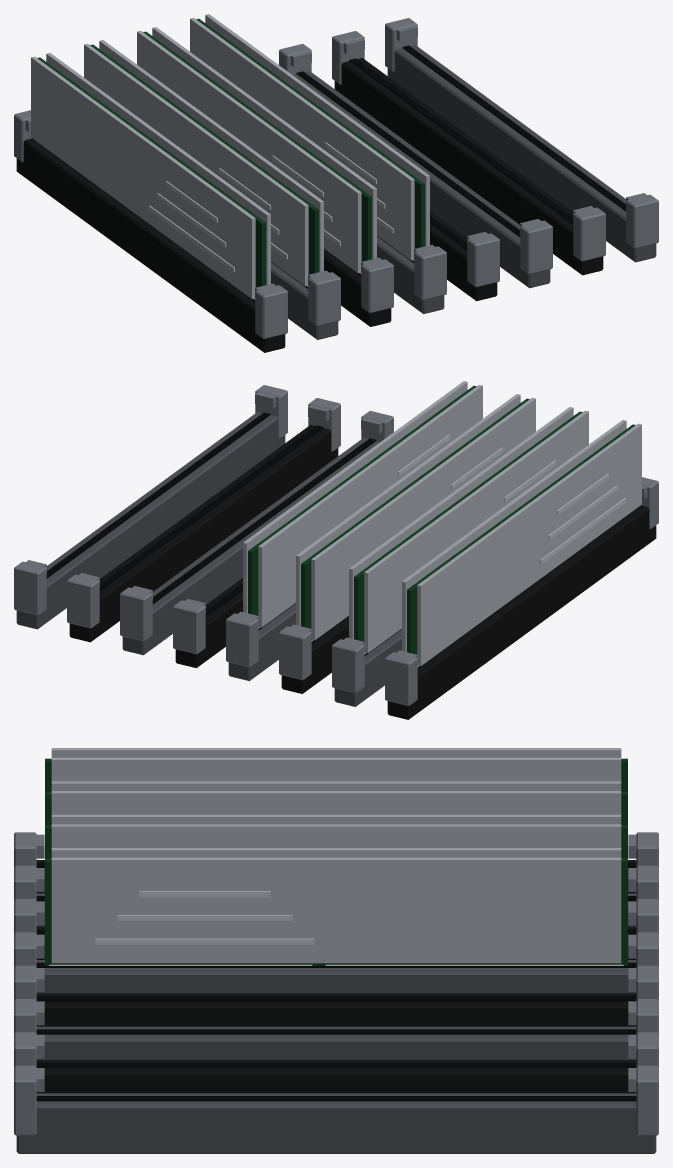
File: hwm_ram_ddr3_32gb.glb
3 renders of one model, top to bottom at view 1: azimuth 30°, elevation 25°; view 2: azimuth 150°, elevation 25°; view 3: azimuth 270°, elevation 25°, orthographic. The views are drawn at different scales.
Visible parts, largest first — view 1: Slots, Stick_0, Stick_2, Stick_1, Stick_3, Latch_5_1, Latch_6_1, Latch_2_1, Latch_3_1, Latch_4_1, Latch_7_1, Latch_1_1 (+5 smaller); view 2: Slots, Stick_0, Stick_2, Stick_1, Stick_3, Latch_5_0, Latch_6_0, Latch_2_0, Latch_3_0, Latch_4_0, Latch_7_0, Latch_1_0 (+5 smaller); view 3: Slots, Stick_3, Stick_1, Stick_0, Stick_2, Latch_7_0, Latch_7_1, Latch_0_0, Latch_0_1, Latch_2_0, Latch_2_1, Latch_3_0 (+9 smaller).
Part boxes in pixels (box(x1,y1,x2,y2)): Slots: box(16, 45, 656, 352); Stick_0: box(31, 53, 270, 299); Stick_2: box(137, 27, 376, 273); Stick_1: box(84, 40, 323, 286); Stick_3: box(190, 14, 429, 261); Latch_5_1: box(520, 219, 552, 274); Latch_6_1: box(573, 206, 605, 261); Latch_2_1: box(361, 257, 393, 313); Latch_3_1: box(414, 244, 446, 300); Latch_4_1: box(467, 232, 499, 287); Latch_7_1: box(626, 193, 658, 248); Latch_1_1: box(308, 270, 340, 325); Slots: box(16, 412, 656, 719); Stick_0: box(402, 420, 641, 666); Stick_2: box(296, 394, 535, 640); Stick_1: box(349, 407, 588, 653); Stick_3: box(243, 381, 482, 628); Latch_5_0: box(120, 586, 152, 641); Latch_6_0: box(67, 573, 99, 628); Latch_2_0: box(279, 624, 311, 680); Latch_3_0: box(226, 611, 258, 667); Latch_4_0: box(173, 599, 205, 654); Latch_7_0: box(14, 560, 46, 615); Latch_1_0: box(332, 637, 364, 692); Slots: box(16, 860, 656, 1153); Stick_3: box(45, 848, 627, 965); Stick_1: box(45, 781, 627, 825); Stick_0: box(45, 748, 627, 791); Stick_2: box(45, 814, 627, 858); Latch_7_0: box(628, 1065, 658, 1135); Latch_7_1: box(14, 1065, 44, 1135); Latch_0_0: box(628, 832, 658, 866); Latch_0_1: box(14, 832, 44, 866); Latch_2_0: box(628, 899, 658, 933); Latch_2_1: box(14, 899, 44, 933); Latch_3_0: box(628, 932, 658, 966).
Size of the model in its own units: 0.1346 by 0.0404 by 0.1472.
